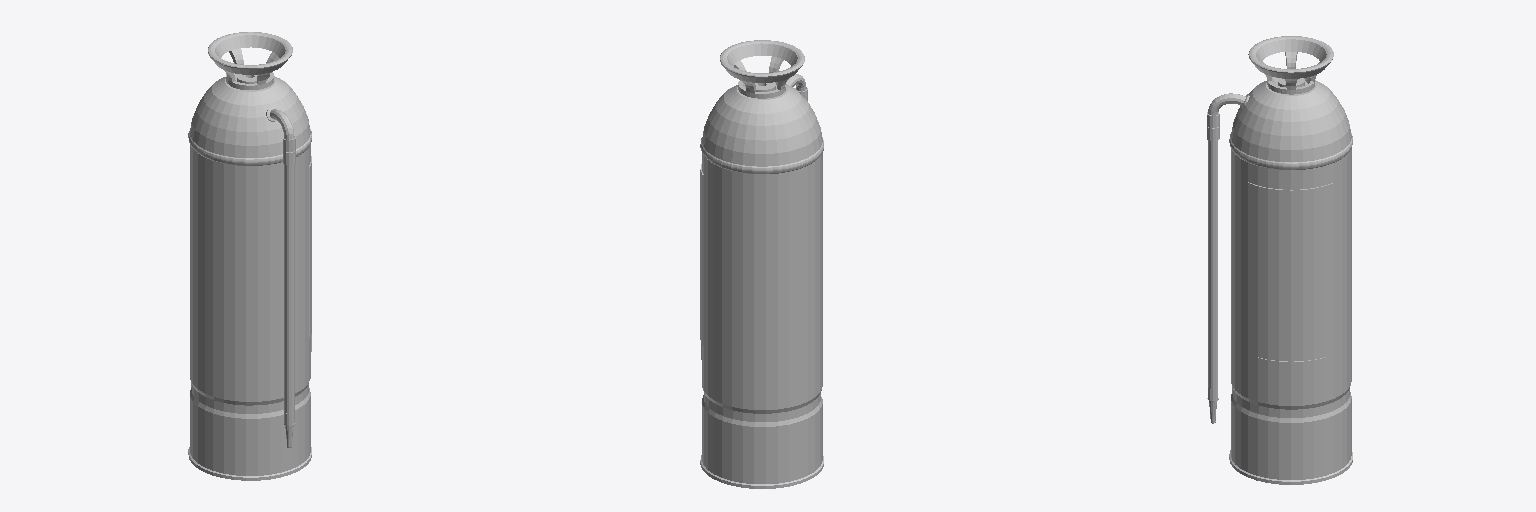
Rendered from FireExtinguisher.obj.
3 views of the same model, side by side, from view 1: azimuth 30°, elevation 25°; view 2: azimuth 150°, elevation 25°; view 3: azimuth 270°, elevation 25° (orthographic).
Visible parts, largest first — view 1: Cylinder, BezierCurve; view 2: Cylinder; view 3: Cylinder, BezierCurve.
Boxes of the visible parts, box(x1,y1,x2,y2) form: Cylinder: box(188, 32, 311, 480); BezierCurve: box(266, 107, 295, 447); Cylinder: box(700, 40, 823, 488); Cylinder: box(1229, 36, 1352, 484); BezierCurve: box(1207, 93, 1249, 423).
Bounding box in the file's own units: 0.1083 × 0.3894 × 0.1279.